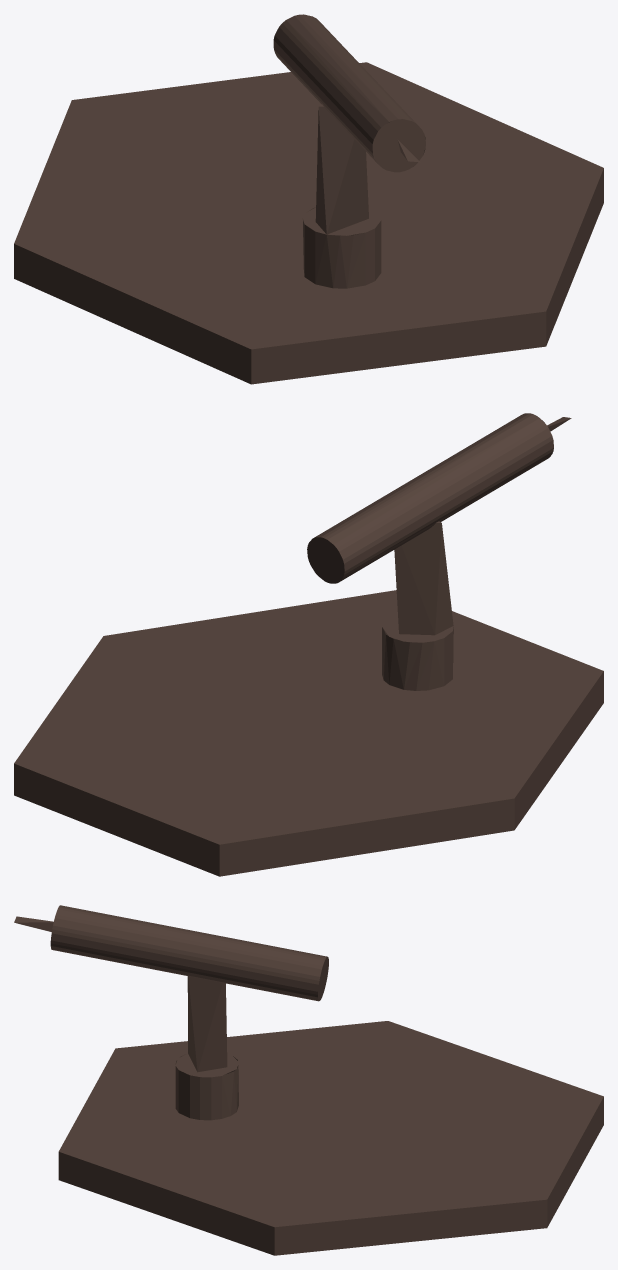
File: Harpune_ohne_Geschoss.fbx
3 views of the same model, one above another, from view 1: azimuth 30°, elevation 25°; view 2: azimuth 150°, elevation 25°; view 3: azimuth 270°, elevation 25° (orthographic). The views are drawn at different scales.
Visible parts, largest first — view 1: Stehfläche, Mitte, ständer; view 2: Stehfläche, Mitte, ständer; view 3: Stehfläche, Mitte, ständer.
Part boxes in pixels (left/top/right/bottom): Stehfläche: left=14, top=62, right=603, bottom=384; Mitte: left=273, top=14, right=425, bottom=172; ständer: left=303, top=104, right=381, bottom=288; Stehfläche: left=14, top=590, right=603, bottom=876; Mitte: left=307, top=413, right=571, bottom=583; ständer: left=382, top=521, right=453, bottom=690; Stehfläche: left=58, top=1021, right=603, bottom=1255; Mitte: left=14, top=905, right=328, bottom=1001; ständer: left=175, top=976, right=238, bottom=1120.
Size of the model in its own units: 107 by 51.75 by 129.
1 material, 1 textured.
